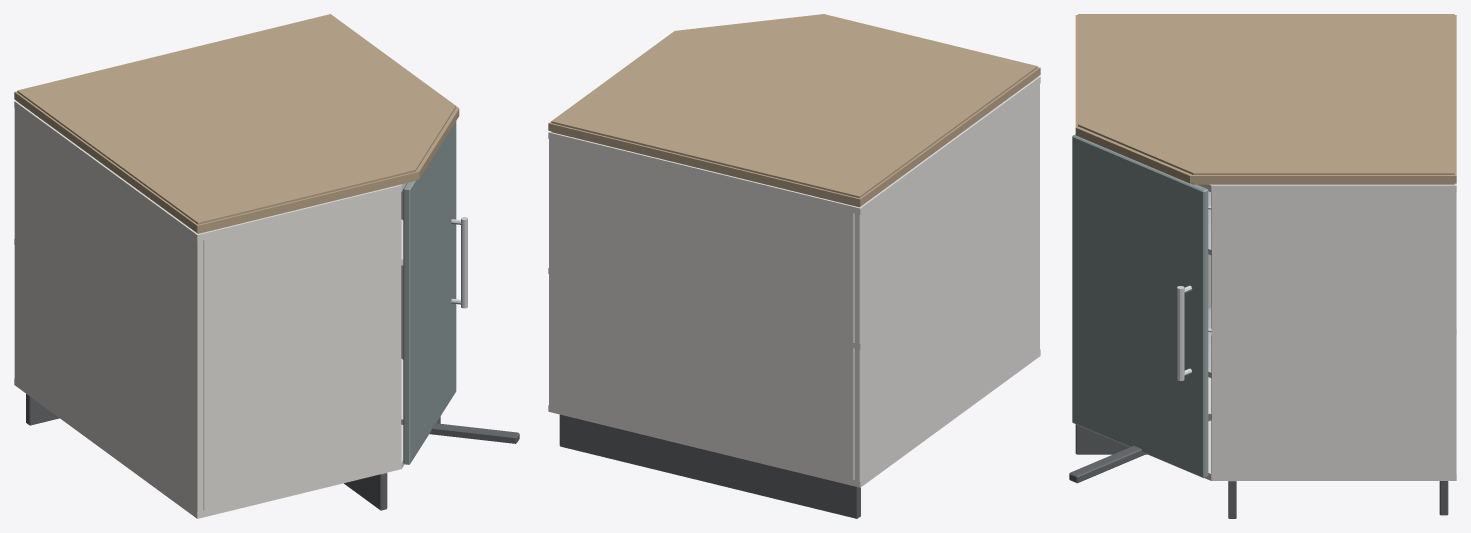
The model's file is fitted-kitchen-and-bathroom-builder-base-900-carousel--c97f4b18__17814.glb.
The picture shows the model from 3 angles, left to right: view 1: azimuth 30°, elevation 25°; view 2: azimuth 150°, elevation 25°; view 3: azimuth 270°, elevation 25°; orthographic projection. The views are drawn at different scales.
Parts seen in each view (by area): view 1: base-900-carousel-corner, door-angled/front, door-angled/metal; view 2: base-900-carousel-corner; view 3: base-900-carousel-corner, door-angled/front, door-angled/metal.
Part boxes in pixels (bbox=[...]): base-900-carousel-corner: bbox=[14, 14, 519, 518]; door-angled/front: bbox=[403, 121, 456, 464]; door-angled/metal: bbox=[451, 217, 467, 308]; base-900-carousel-corner: bbox=[548, 14, 1040, 518]; base-900-carousel-corner: bbox=[1069, 14, 1456, 518]; door-angled/front: bbox=[1072, 134, 1208, 478]; door-angled/metal: bbox=[1177, 285, 1191, 380].
Bounding box in the file's own units: 0.9156 × 0.9 × 0.9156.
